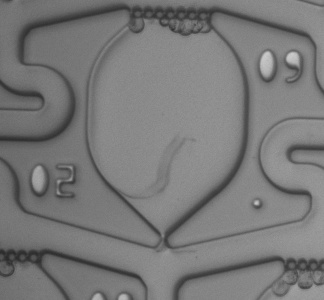AptNum: (249, 45, 311, 90)
Marker: (243, 190, 273, 217)
StNum: (23, 156, 85, 206)
Trap: (143, 238, 187, 280)
